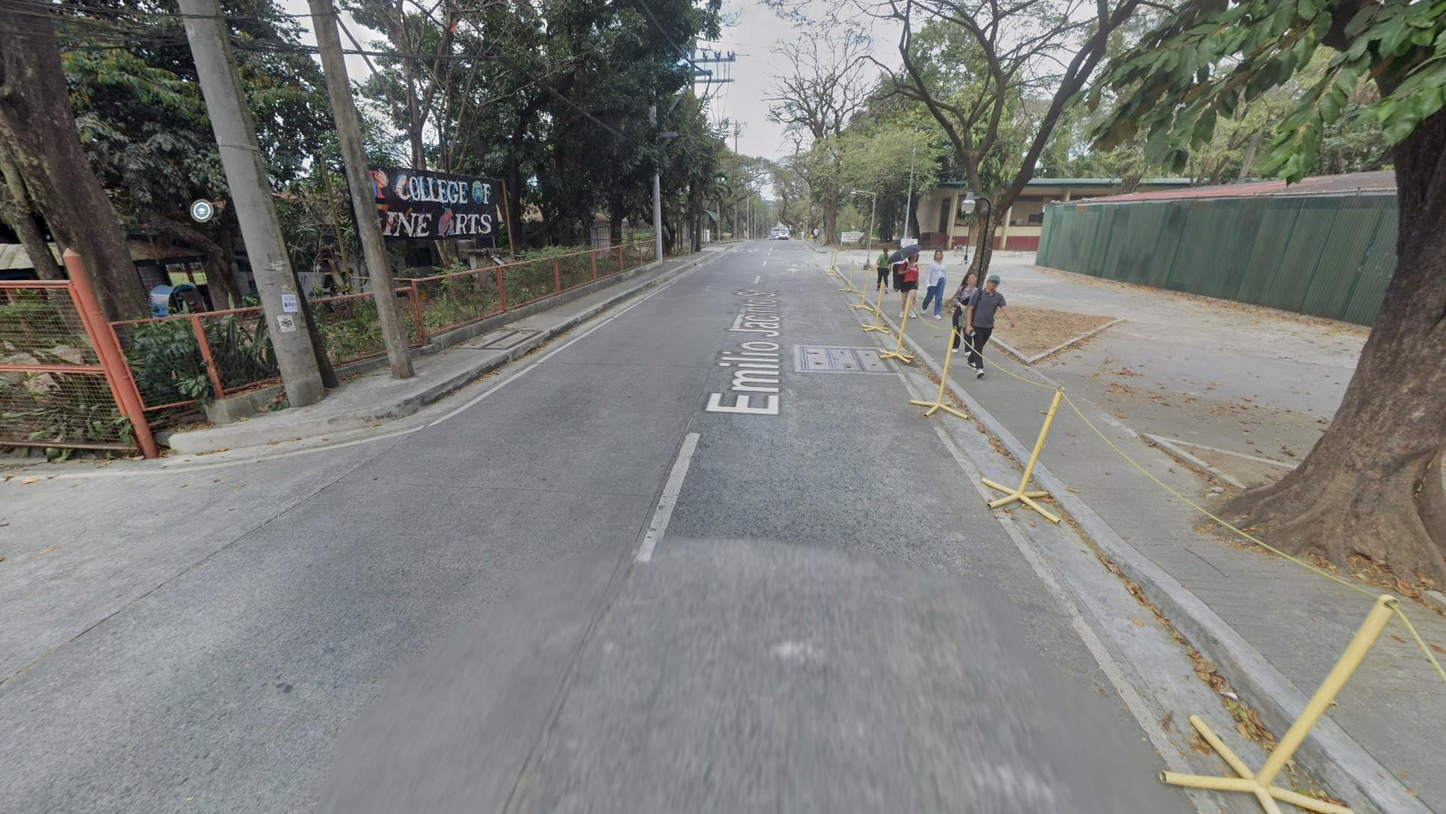pedestrian: (965, 275, 1016, 380), (949, 272, 981, 359), (920, 247, 947, 322), (897, 251, 918, 320), (874, 245, 891, 295), (892, 243, 909, 292), (813, 227, 819, 243), (801, 230, 805, 241)
